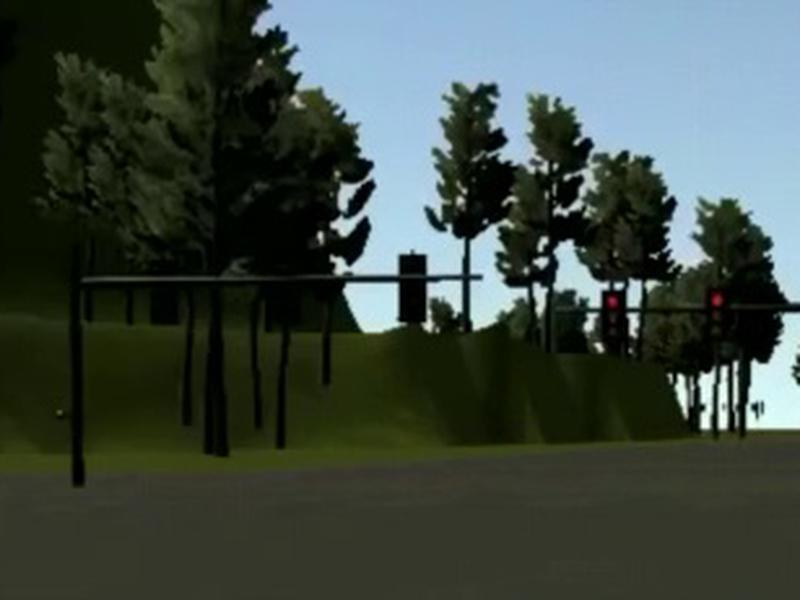Red: (601, 290, 625, 345), (705, 285, 729, 340)
